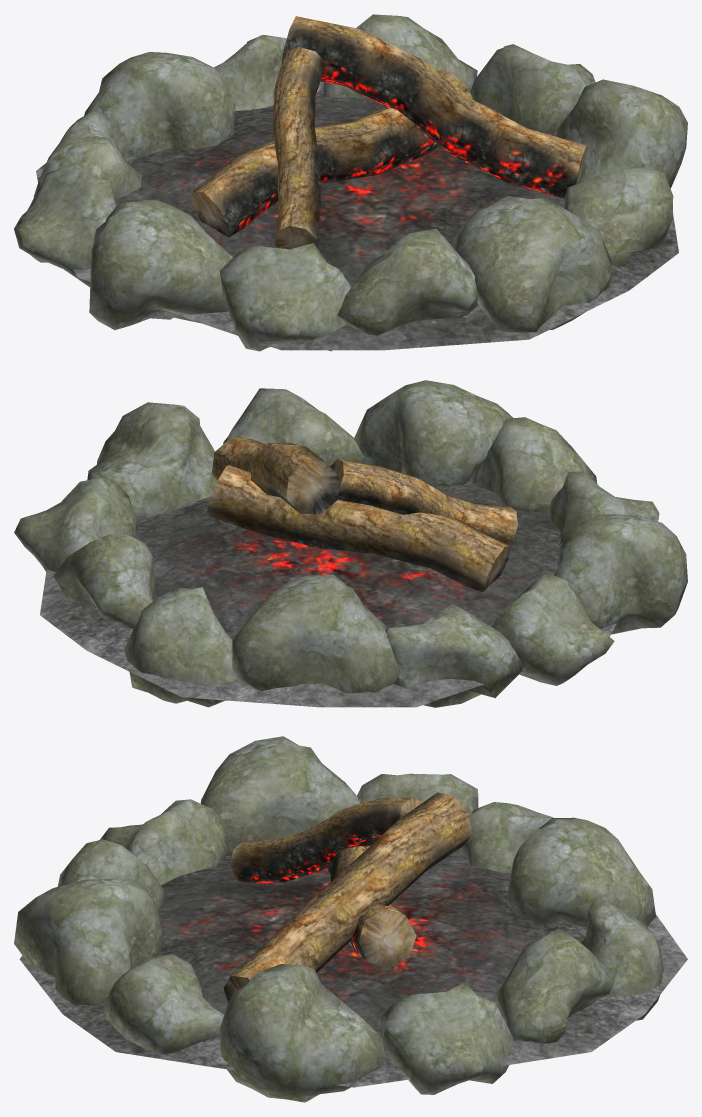
Rendered from SM_Campfire.fbx.
The picture shows the model from 3 angles, top to bottom: view 1: azimuth 30°, elevation 25°; view 2: azimuth 150°, elevation 25°; view 3: azimuth 270°, elevation 25°; orthographic projection. The views are drawn at different scales.
Parts seen in each view (by area): view 1: SM_Campfire; view 2: SM_Campfire; view 3: SM_Campfire.
Boxes of the visible parts, x1=… form: SM_Campfire: x1=14, y1=14, x2=687, y2=351; SM_Campfire: x1=14, y1=380, x2=687, y2=707; SM_Campfire: x1=14, y1=736, x2=687, y2=1102.
Size of the model in its own units: 92.23 by 28.6 by 91.75.
